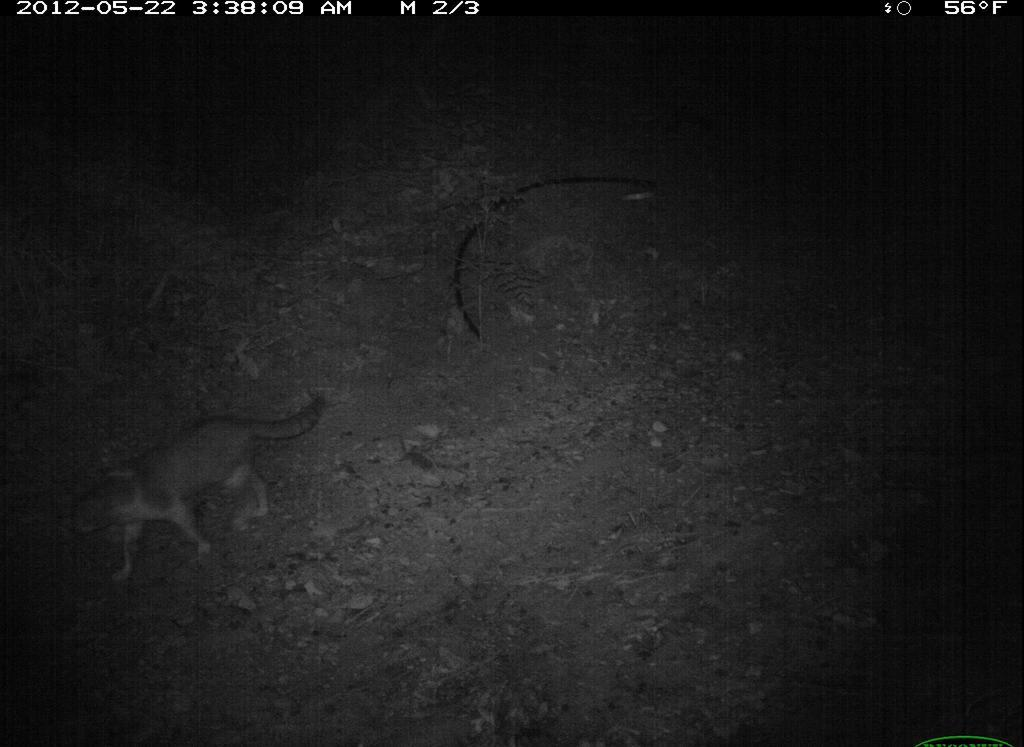cat: (48, 386, 340, 596)
